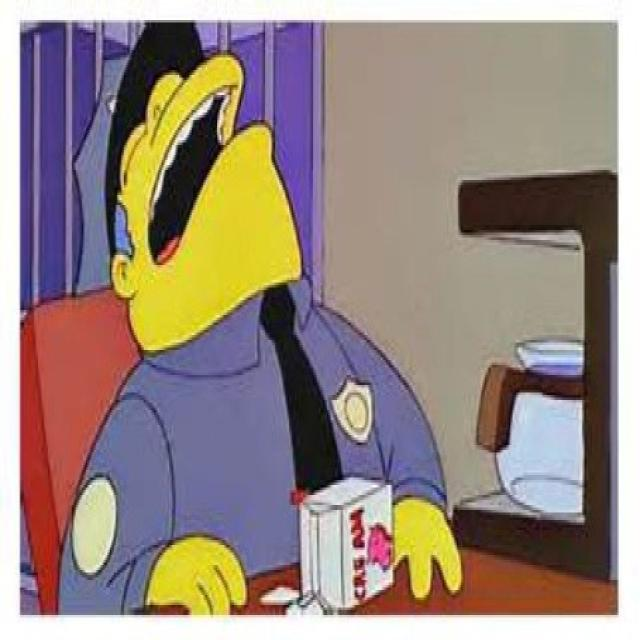Chief Wiggam: (71, 10, 307, 360)
